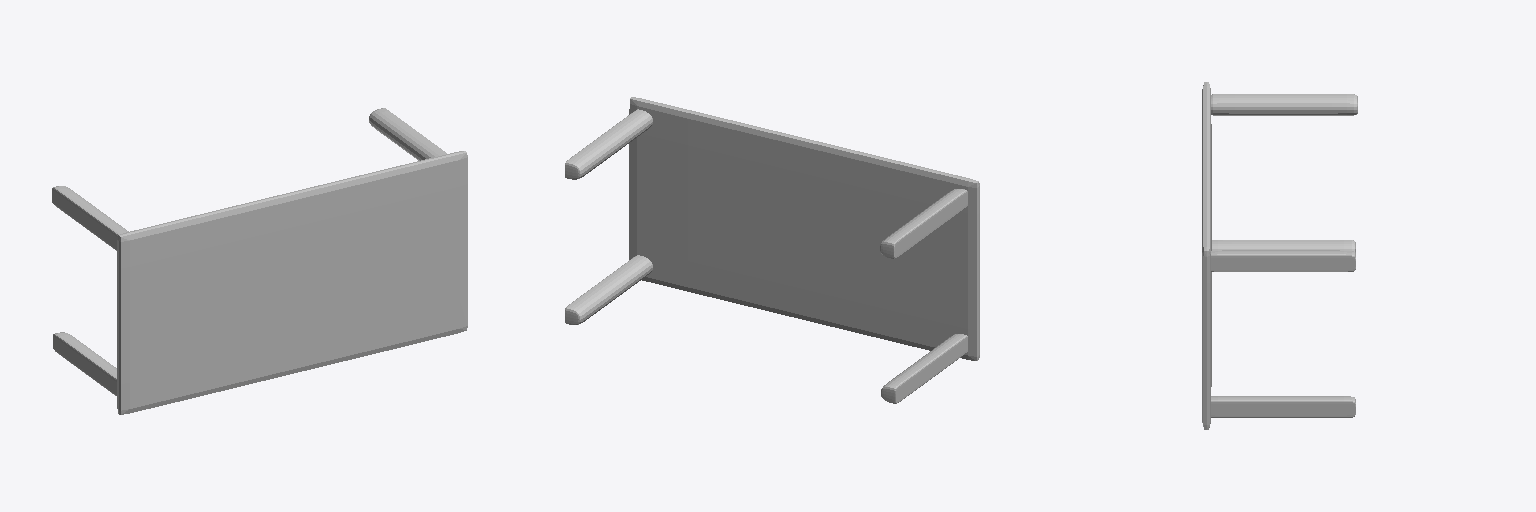
Rendered from white_table.obj.
The picture shows the model from 3 angles: view 1: azimuth 30°, elevation 25°; view 2: azimuth 150°, elevation 25°; view 3: azimuth 270°, elevation 25°; orthographic projection.
Bounding box in the file's own units: 8.08 × 3.99 × 3.15.